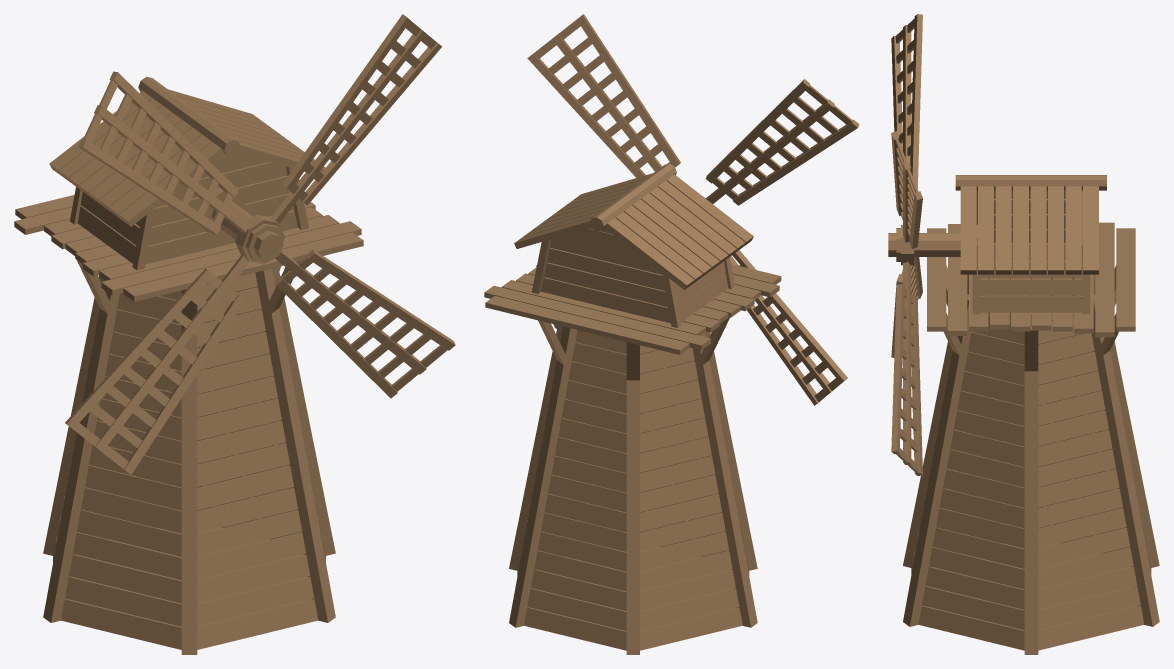
File: windmill.fbx
3 renders of one model, left to right at view 1: azimuth 30°, elevation 25°; view 2: azimuth 150°, elevation 25°; view 3: azimuth 270°, elevation 25°, orthographic. The views are drawn at different scales.
Parts seen in each view (by area): view 1: polySurface121, polySurface211, polySurface41, polySurface56, polySurface94, polySurface93, polySurface213; view 2: polySurface121, polySurface211, polySurface41, polySurface56, polySurface93, polySurface94, polySurface213; view 3: polySurface121, polySurface211, polySurface56, polySurface41, polySurface93, polySurface94, polySurface213.
Part boxes in pixels (bbox=[...]): polySurface121: bbox=[53, 272, 325, 649]; polySurface211: bbox=[14, 195, 363, 654]; polySurface41: bbox=[65, 14, 455, 474]; polySurface56: bbox=[49, 77, 325, 226]; polySurface94: bbox=[94, 29, 426, 451]; polySurface93: bbox=[70, 152, 308, 270]; polySurface213: bbox=[68, 528, 310, 626]; polySurface121: bbox=[517, 330, 749, 650]; polySurface211: bbox=[484, 264, 781, 654]; polySurface41: bbox=[527, 14, 859, 405]; polySurface56: bbox=[514, 163, 753, 289]; polySurface93: bbox=[531, 227, 734, 327]; polySurface94: bbox=[552, 34, 834, 394]; polySurface213: bbox=[530, 547, 735, 631]; polySurface121: bbox=[911, 278, 1151, 650]; polySurface211: bbox=[903, 222, 1159, 654]; polySurface56: bbox=[955, 175, 1106, 274]; polySurface41: bbox=[891, 14, 922, 475]; polySurface93: bbox=[972, 190, 1090, 314]; polySurface94: bbox=[888, 25, 977, 464]; polySurface213: bbox=[925, 543, 1137, 630].
Size of the model in its own units: 27.7 by 41.86 by 19.76.
